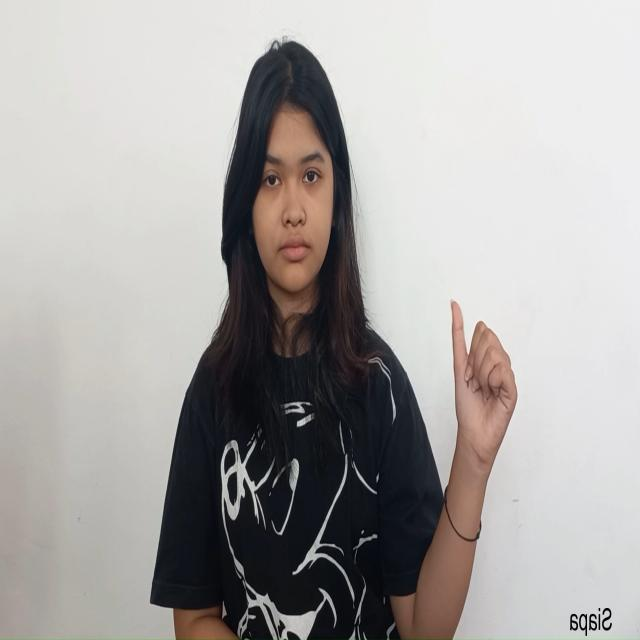Siapa -BISINDO-: (448, 293, 521, 480)
